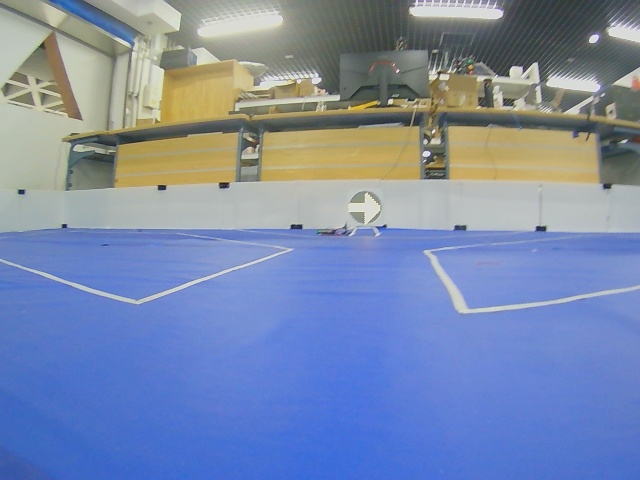right_yellow: (348, 191, 382, 225)
